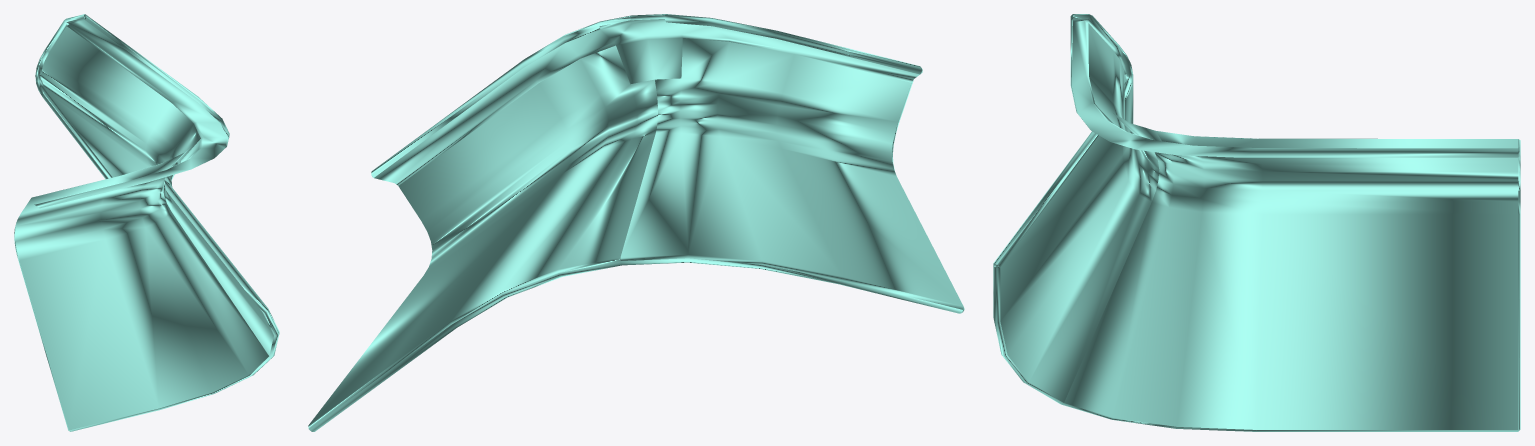
The model's file is greencircle_int_balcony_railings_glass_corner_a.glb.
The picture shows the model from 3 angles, left to right: view 1: azimuth 30°, elevation 25°; view 2: azimuth 150°, elevation 25°; view 3: azimuth 270°, elevation 25°; orthographic projection. The views are drawn at different scales.
Size of the model in its own units: 1.48 by 1.05 by 1.98.
